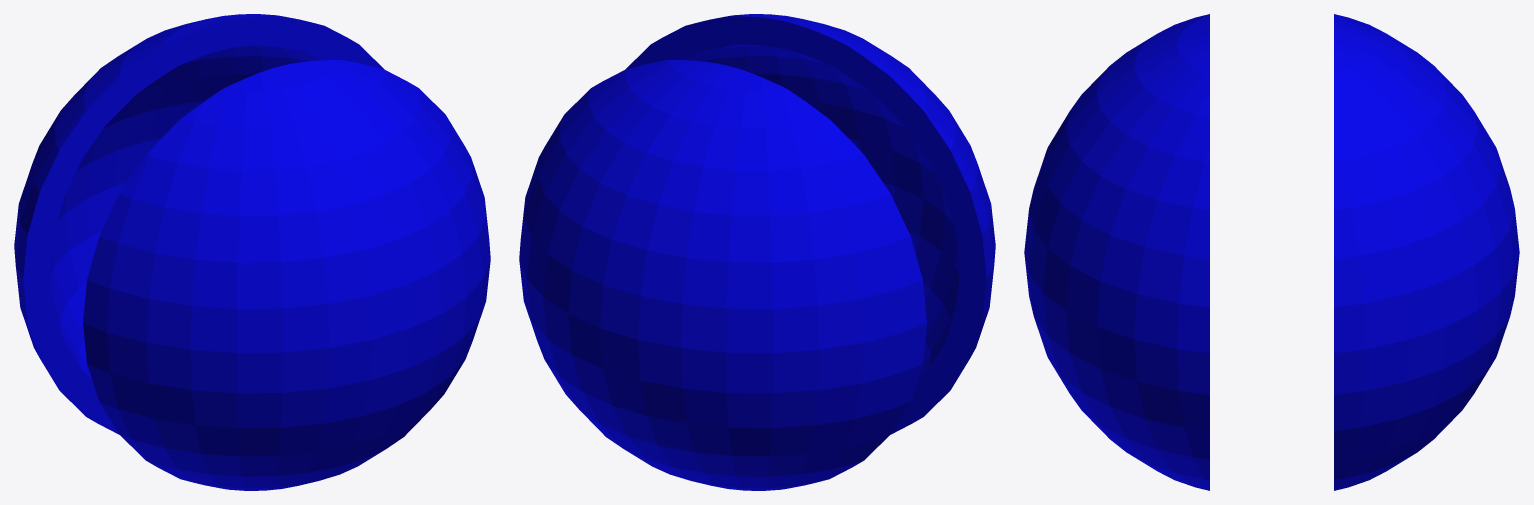
Rendered from Turret_P1_Blue.fbx.
3 renders of one model, left to right at view 1: azimuth 30°, elevation 25°; view 2: azimuth 150°, elevation 25°; view 3: azimuth 270°, elevation 25°, orthographic. The views are drawn at different scales.
Visible parts, largest first — view 1: Sphere; view 2: Sphere; view 3: Sphere.
Part boxes in pixels (bbox=[...]): Sphere: bbox=[14, 14, 490, 490]; Sphere: bbox=[519, 14, 995, 490]; Sphere: bbox=[1024, 14, 1519, 490].
Bounding box in the file's own units: 193 × 193 × 200.
